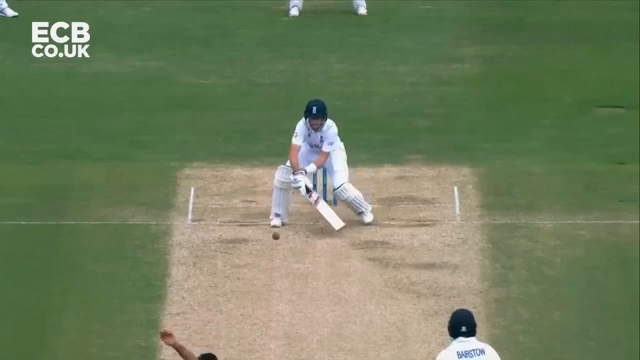batsman: (267, 98, 373, 241)
